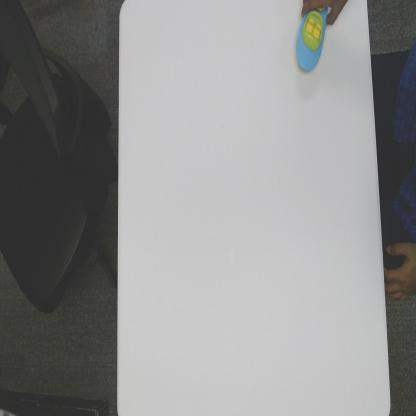Boat: (295, 7, 327, 74)
Hand: (300, 0, 350, 27)
